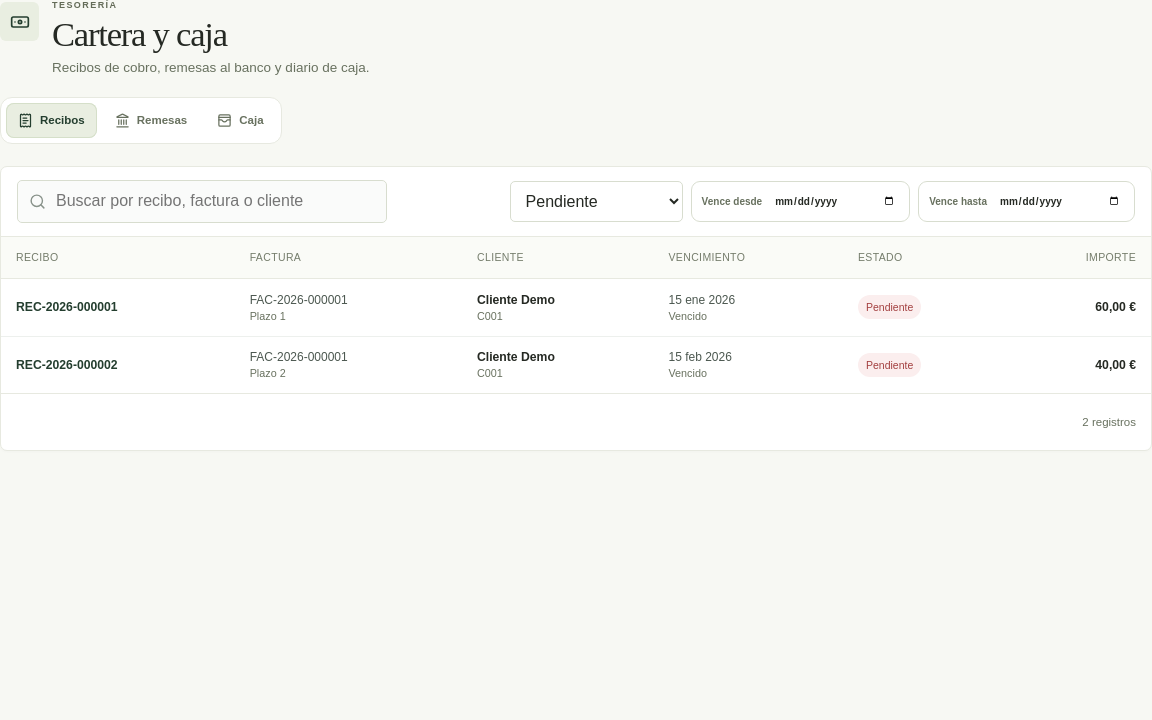
it: warns when the receipt was collected but the invoice could not be updated in sales
Click the text "REC-2026-000001".
click(67, 307)  # box [16,300,118,314]
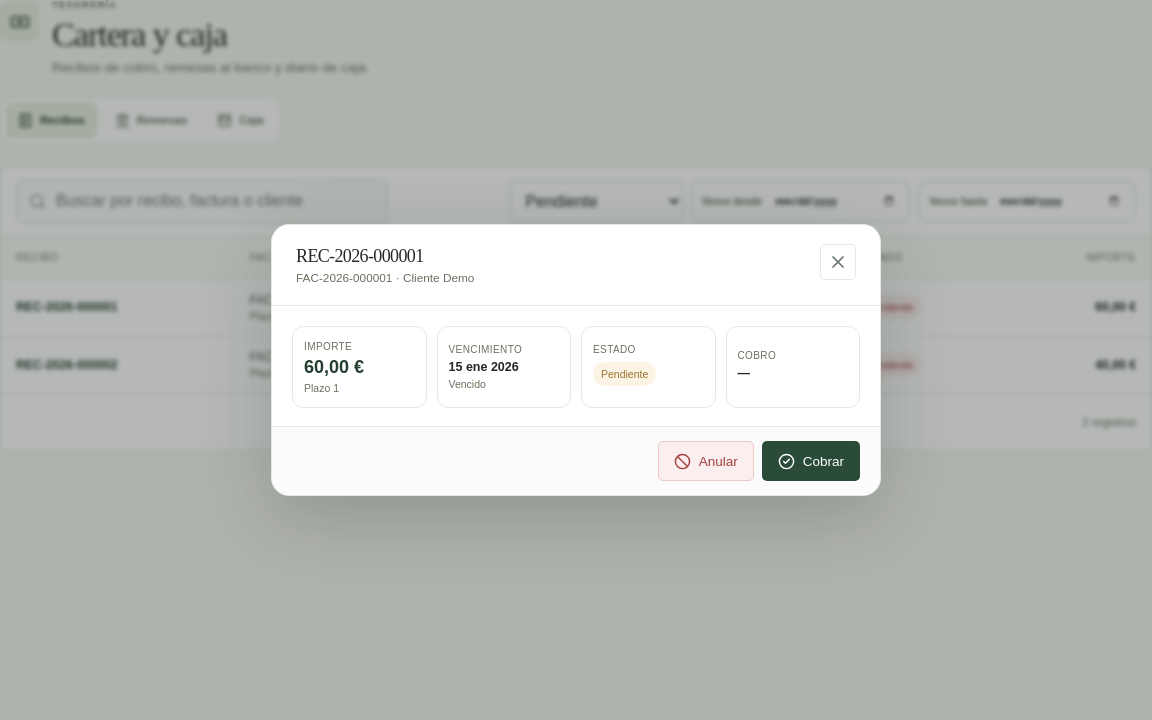
Click the button "Cobrar".
click(811, 461)  # box [762,441,860,481]
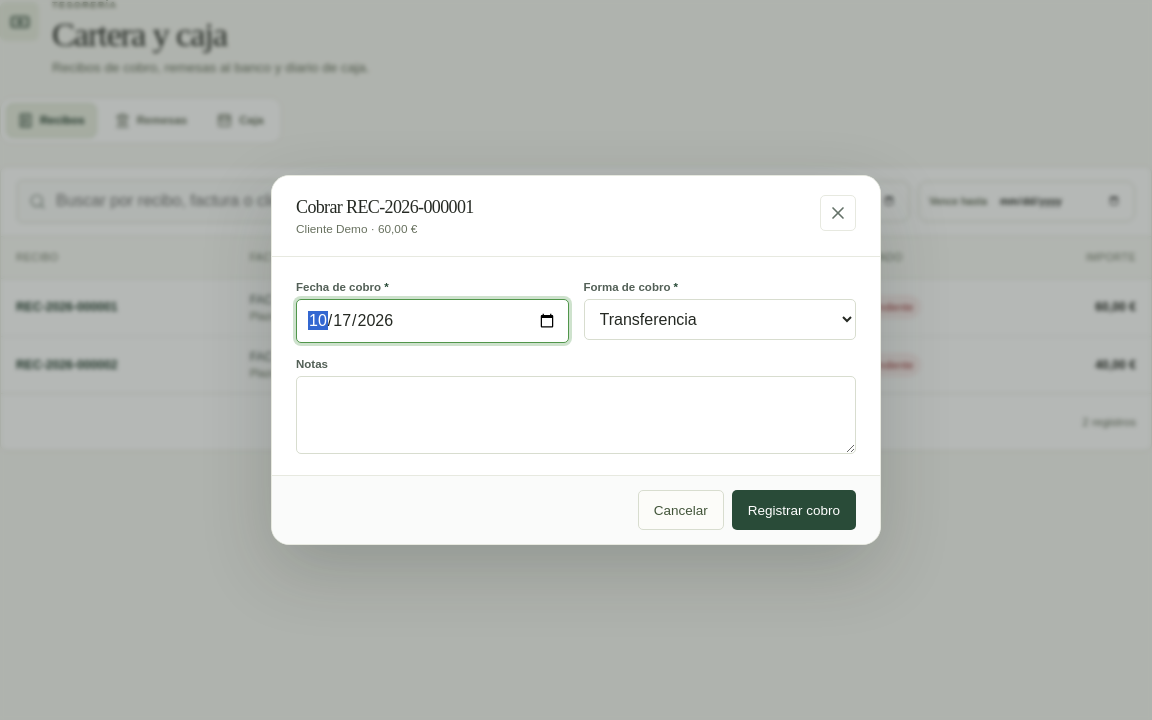
Click the button "Registrar cobro".
click(794, 510)  # box [732,490,856,530]
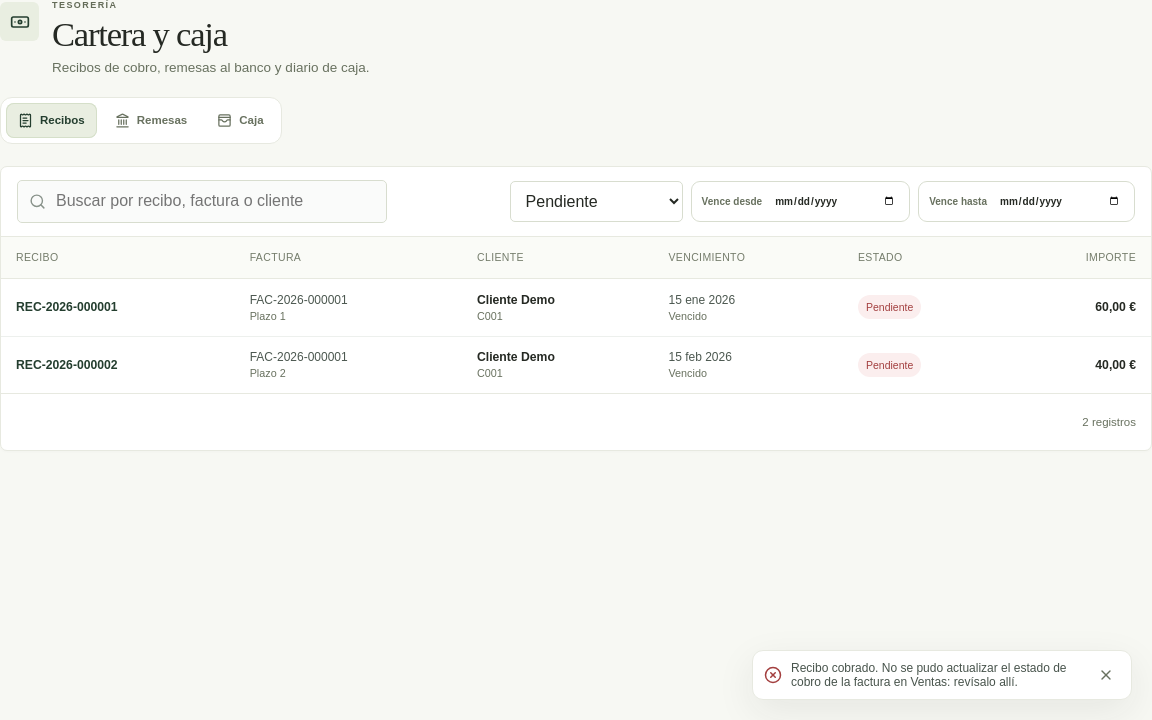
Now the message shows "No se pudo actualizar el estado de cobro de la factura en Ventas", box [791,661,1066,689]
